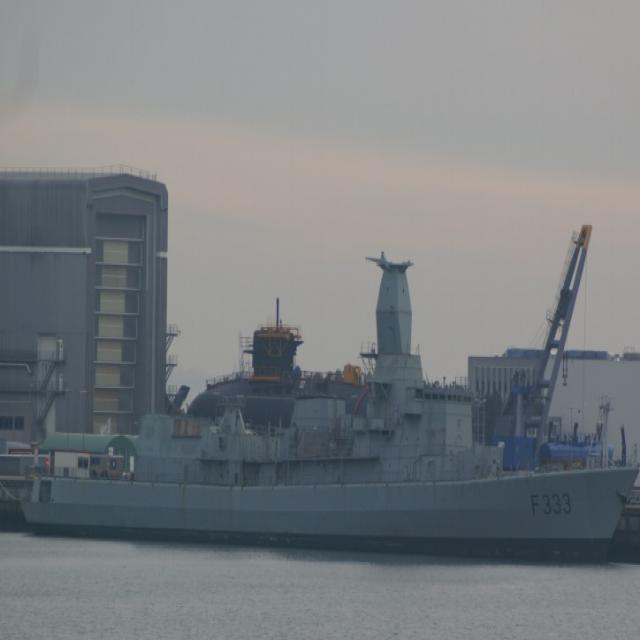Fragata: (18, 256, 640, 562)
